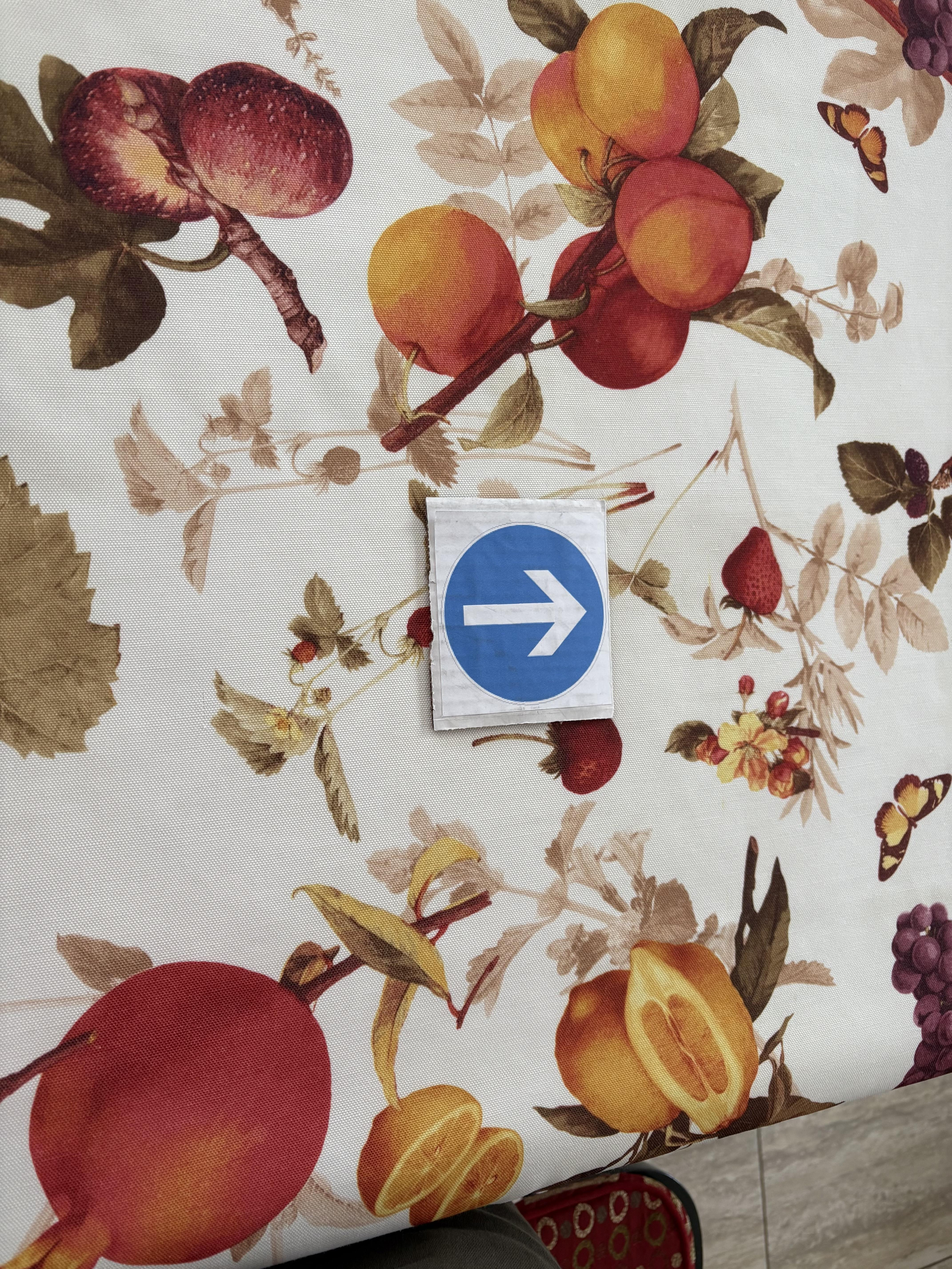Proceed Right: (427, 500, 607, 718)
